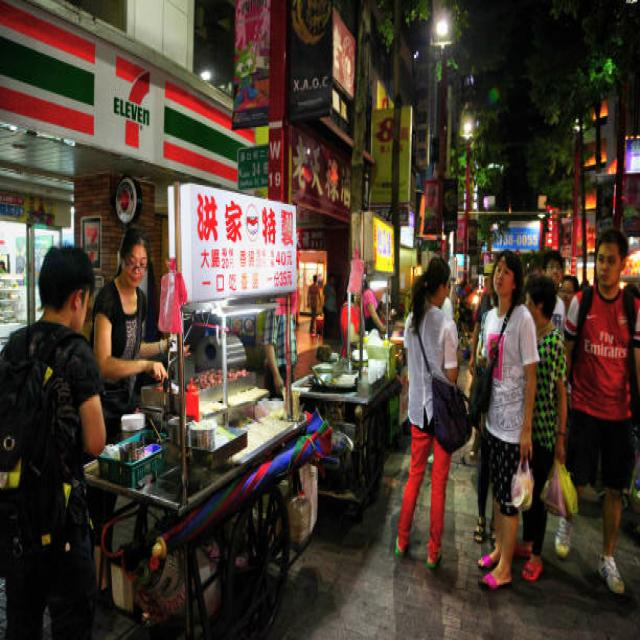Emperan: (67, 183, 360, 640)
